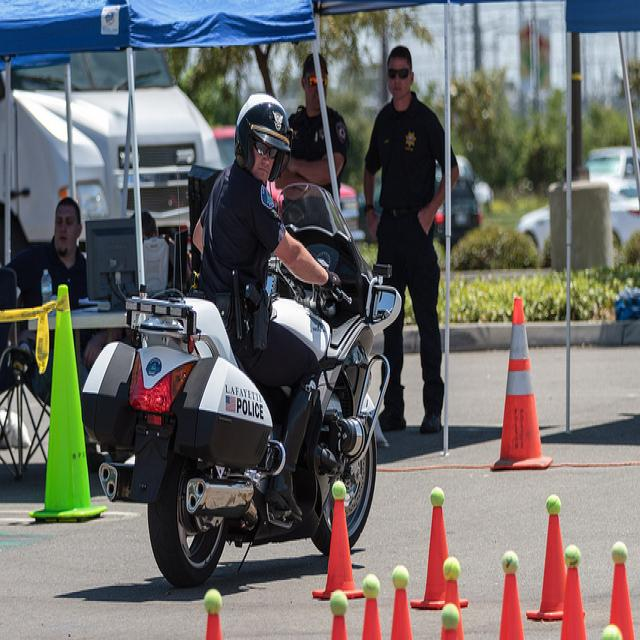motor: (124, 189, 399, 586)
